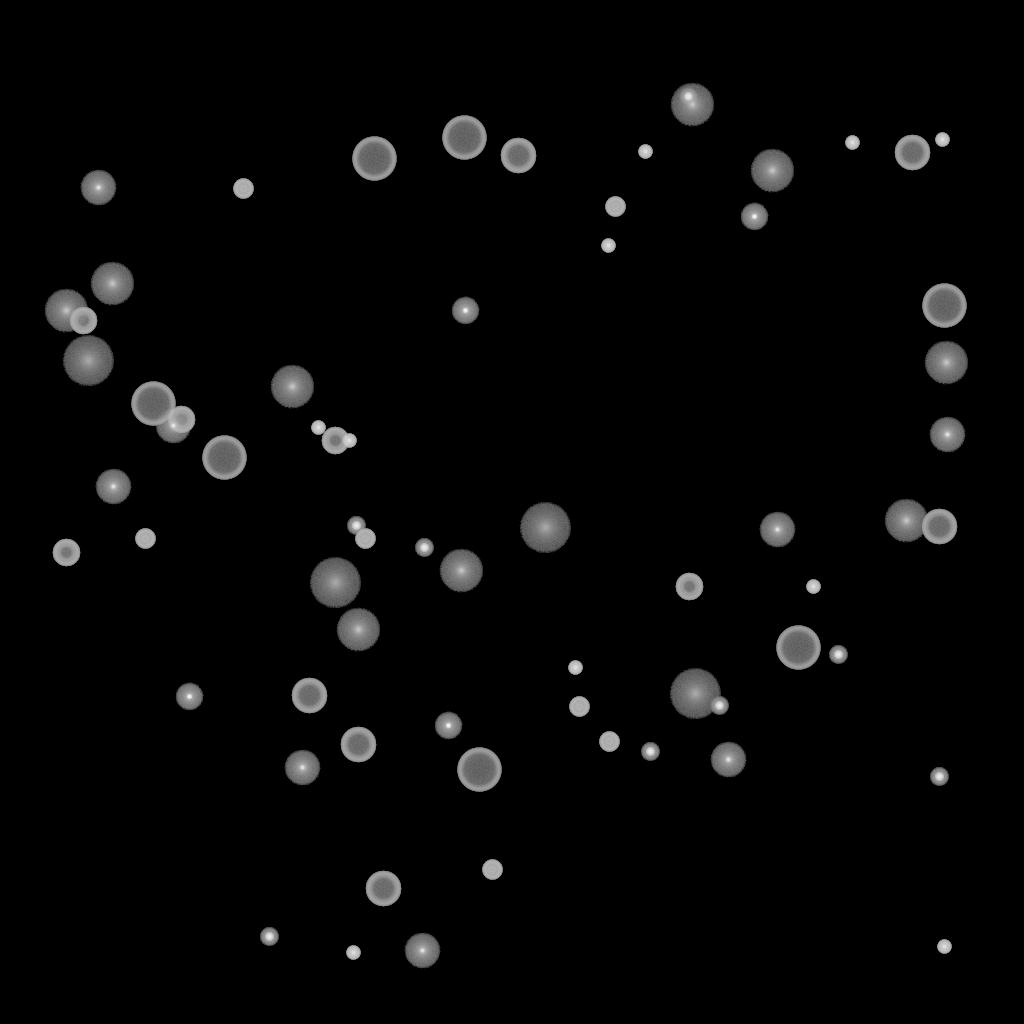depth:-10: (175, 683, 203, 711), (451, 297, 479, 325), (740, 203, 768, 231), (434, 712, 462, 740)
depth:-20: (829, 646, 847, 664), (641, 743, 659, 761), (415, 539, 433, 557), (679, 88, 697, 106), (710, 697, 728, 715), (347, 517, 365, 535), (930, 768, 948, 786), (260, 928, 278, 946)
depth:-30: (845, 136, 859, 150), (568, 661, 582, 675), (806, 580, 820, 594), (601, 239, 615, 253), (311, 421, 325, 435), (937, 940, 951, 954), (935, 133, 949, 147), (342, 434, 356, 448), (638, 145, 652, 159), (346, 946, 360, 960)
depth:-40: (482, 860, 502, 880), (135, 529, 155, 549), (599, 732, 619, 752), (233, 179, 253, 199), (569, 697, 589, 717), (355, 529, 375, 549), (605, 197, 625, 217)
depth:-50: (675, 573, 703, 601), (69, 307, 97, 335), (321, 427, 349, 455), (167, 406, 195, 434), (52, 539, 80, 567)
depth:-60: (291, 678, 327, 714), (500, 138, 536, 174), (365, 871, 401, 907), (340, 727, 376, 763), (894, 135, 930, 171), (921, 509, 957, 545)
depth:-70: (776, 626, 820, 670), (131, 382, 175, 426), (202, 436, 246, 480), (922, 284, 966, 328), (352, 137, 396, 181), (457, 748, 501, 792), (442, 116, 486, 160)
depth:0: (759, 512, 795, 548), (95, 469, 131, 505), (80, 170, 116, 206), (710, 742, 746, 778), (155, 408, 191, 444), (404, 933, 440, 969), (929, 417, 965, 453), (284, 750, 320, 786)
depth:10: (750, 149, 794, 193), (336, 608, 380, 652), (670, 83, 714, 127), (884, 499, 928, 543), (439, 549, 483, 593), (44, 289, 88, 333), (270, 365, 314, 409), (924, 341, 968, 385), (90, 262, 134, 306)
depth:20: (62, 336, 114, 386), (669, 669, 721, 719), (519, 503, 571, 553), (309, 558, 361, 608)
